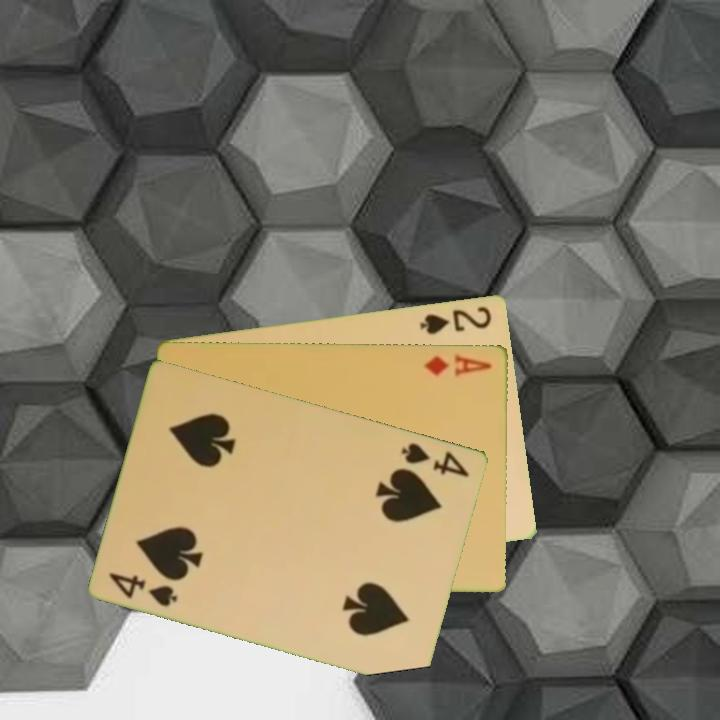2s: (416, 302, 495, 337)
4s: (398, 439, 473, 480), (106, 568, 181, 609)
Ad: (421, 351, 495, 379)
